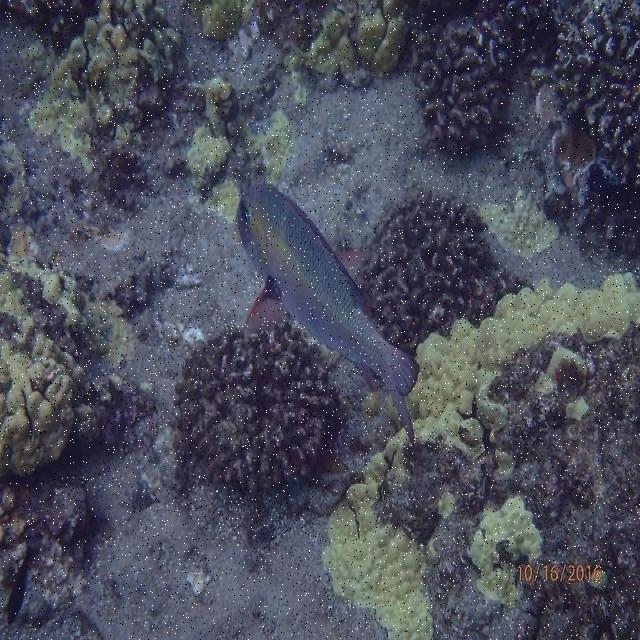fish: (234, 182, 421, 443)
reefs: (321, 187, 639, 639), (188, 0, 639, 194), (0, 136, 156, 639), (174, 321, 341, 495)
